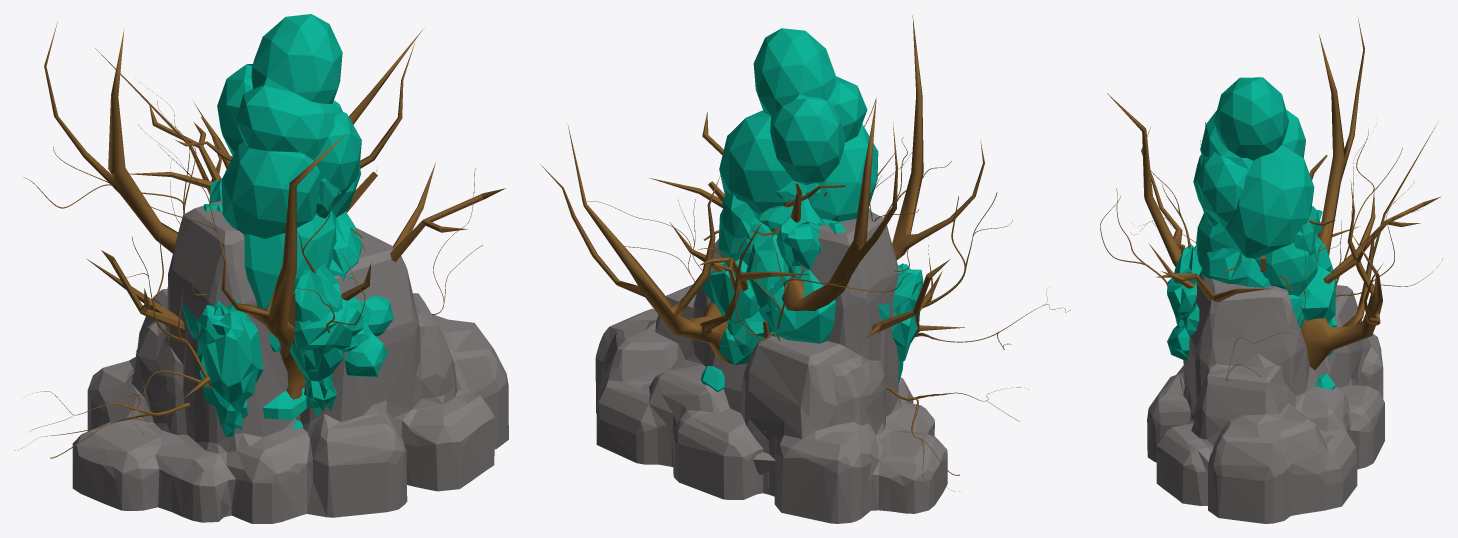
Rendered from Nature Assets.fbx.
3 views of the same model, side by side, from view 1: azimuth 30°, elevation 25°; view 2: azimuth 150°, elevation 25°; view 3: azimuth 270°, elevation 25° (orthographic). The views are drawn at different scales.
Parts seen in each view (by area): view 1: Rock, Tree_9, Tree_12, Dead_Tree_3, Dead_Tree_1, Tree_5, Dead_Tree_2, Tree_8, Dead_Tree_4, Tree_10, Tree_7; view 2: Rock, Tree_9, Dead_Tree_3, Tree_6, Tree_12, Dead_Tree_2, Tree_7, Dead_Tree_1, Tree_4, Tree_5, Tree_1, Dead_Tree_4; view 3: Rock, Tree_9, Dead_Tree_3, Tree_5, Dead_Tree_1, Tree_6, Dead_Tree_2, Tree_8, Tree_7, Tree_12, Dead_Tree_4.
Part boxes in pixels (x1,y1,x2,y2): Rock: [72, 200, 508, 523]; Tree_9: [217, 14, 361, 309]; Tree_12: [192, 178, 343, 436]; Dead_Tree_3: [44, 22, 424, 399]; Dead_Tree_1: [86, 105, 505, 398]; Tree_5: [294, 211, 363, 357]; Dead_Tree_2: [14, 76, 482, 458]; Tree_8: [269, 276, 393, 376]; Dead_Tree_4: [201, 116, 377, 356]; Tree_10: [263, 387, 307, 419]; Tree_7: [204, 178, 340, 358]; Rock: [595, 210, 947, 523]; Tree_9: [718, 28, 878, 265]; Dead_Tree_3: [540, 15, 984, 363]; Tree_6: [701, 258, 889, 343]; Tree_12: [776, 218, 923, 383]; Dead_Tree_2: [587, 99, 1070, 491]; Tree_7: [722, 191, 846, 307]; Dead_Tree_1: [649, 112, 964, 339]; Tree_4: [755, 180, 820, 336]; Tree_5: [727, 285, 786, 356]; Tree_1: [701, 328, 751, 391]; Dead_Tree_4: [703, 181, 827, 338]; Rock: [1147, 272, 1384, 523]; Tree_9: [1193, 77, 1317, 296]; Dead_Tree_3: [1107, 16, 1437, 369]; Tree_5: [1167, 248, 1337, 327]; Dead_Tree_1: [1149, 191, 1440, 302]; Tree_6: [1289, 266, 1336, 328]; Dead_Tree_2: [1100, 79, 1442, 380]; Tree_8: [1167, 301, 1300, 360]; Tree_7: [1201, 199, 1331, 271]; Tree_12: [1174, 206, 1322, 324]; Dead_Tree_4: [1179, 155, 1336, 295].
Size of what is drawn, in the model's own units: 94.23 by 89.15 by 73.43.
